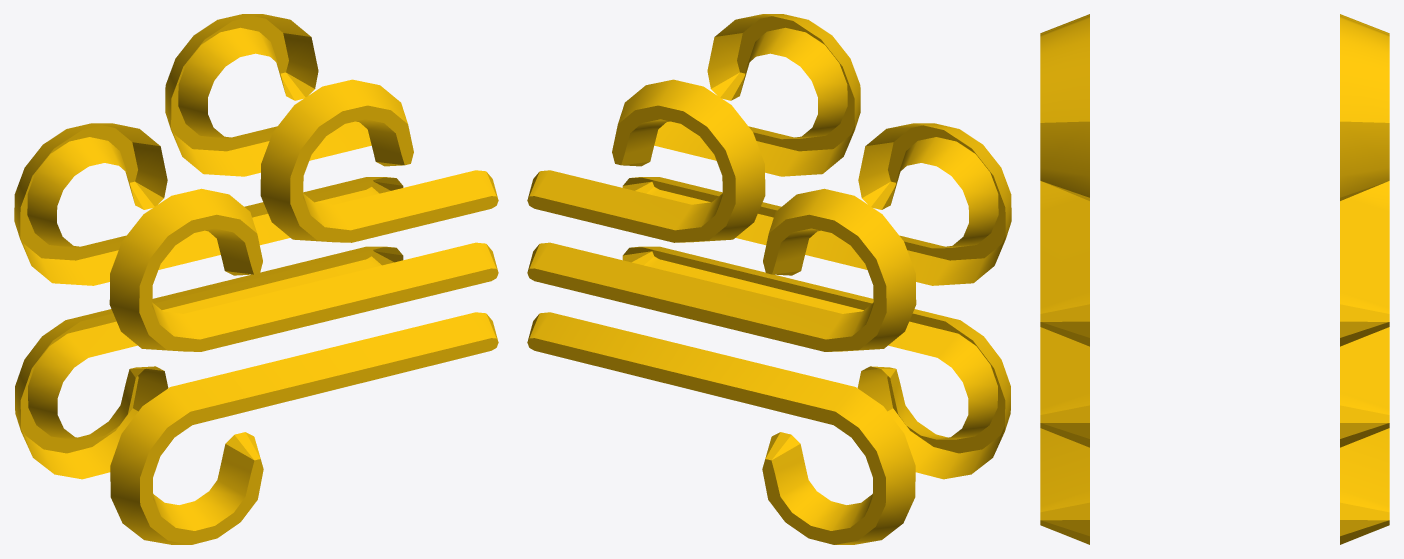
Rendered from Wind.fbx.
3 views of the same model, side by side, from view 1: azimuth 30°, elevation 25°; view 2: azimuth 150°, elevation 25°; view 3: azimuth 270°, elevation 25° (orthographic). The views are drawn at different scales.
Parts seen in each view (by area): view 1: Wind; view 2: Wind; view 3: Wind.
Part boxes in pixels (left/top/right/bottom): Wind: left=14, top=14, right=498, bottom=544; Wind: left=527, top=14, right=1011, bottom=544; Wind: left=1040, top=14, right=1389, bottom=544.
Bounding box in the file's own units: 80.92 × 85.15 × 45.74.
